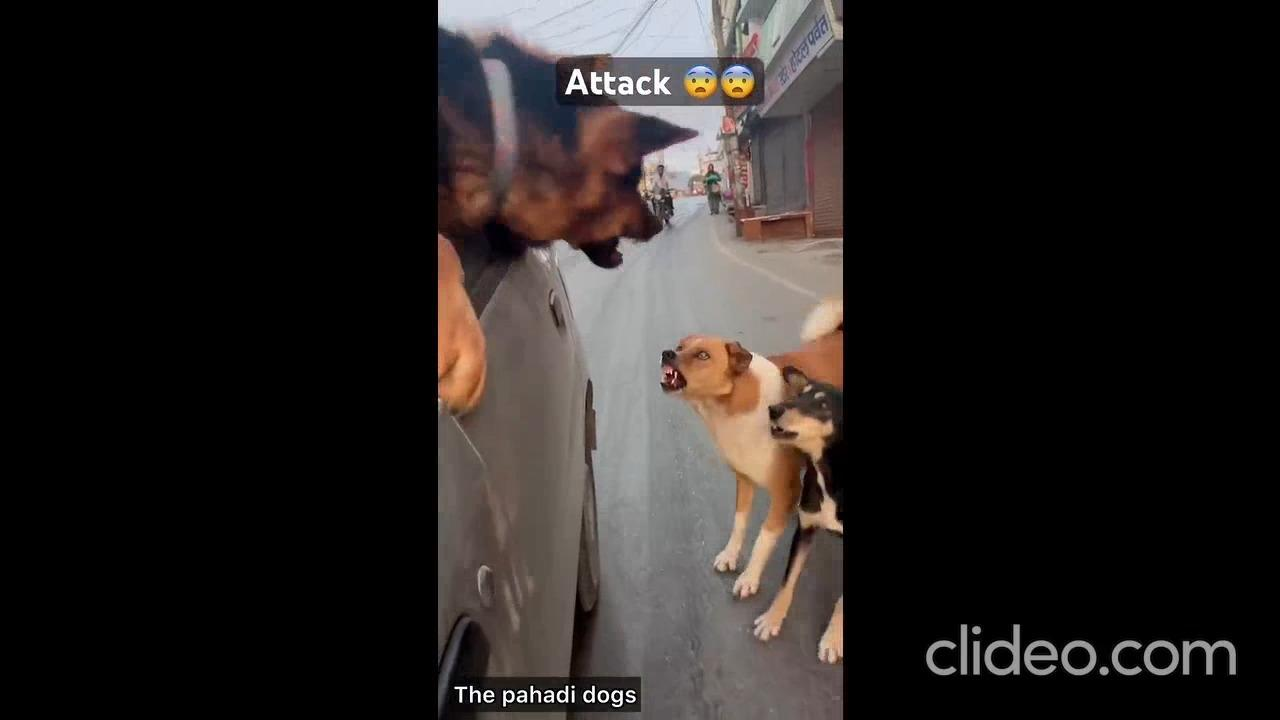dog: (657, 294, 842, 581), (753, 345, 845, 656)
